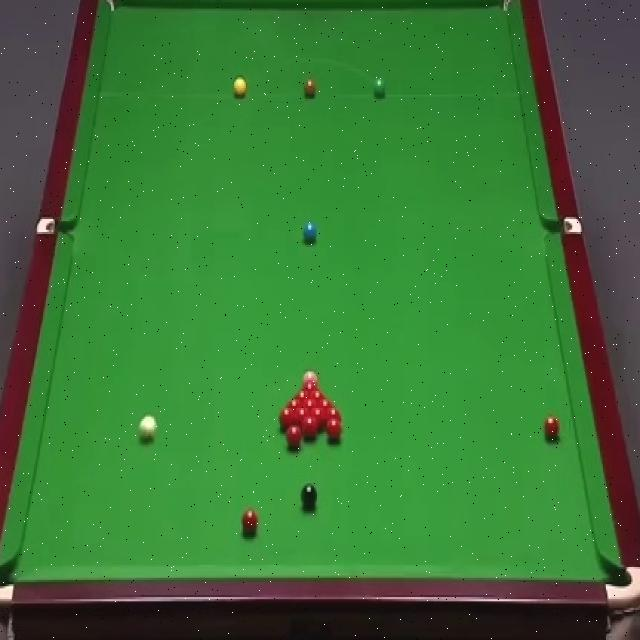black-ball: (300, 483, 318, 510)
blue-ball: (303, 221, 317, 241)
brown-ball: (303, 80, 317, 97)
green-ball: (372, 75, 387, 101)
pink-ball: (302, 371, 320, 388)
red-ball: (241, 506, 261, 535), (542, 416, 561, 442), (324, 418, 344, 441), (279, 406, 296, 432), (309, 408, 327, 428), (325, 407, 342, 428), (286, 424, 302, 446), (303, 415, 318, 438), (302, 396, 318, 413), (317, 397, 334, 412), (286, 397, 304, 411), (296, 409, 308, 429), (295, 388, 311, 402), (310, 387, 324, 403)
white-ball: (138, 414, 158, 443)
yellow-ball: (232, 76, 248, 98)
